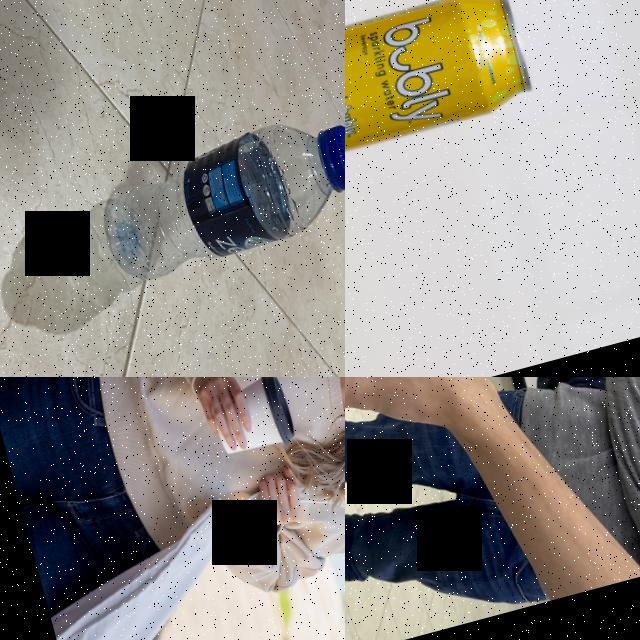bottle: (90, 103, 345, 295)
can: (345, 0, 535, 188)
cup: (204, 377, 298, 463)
